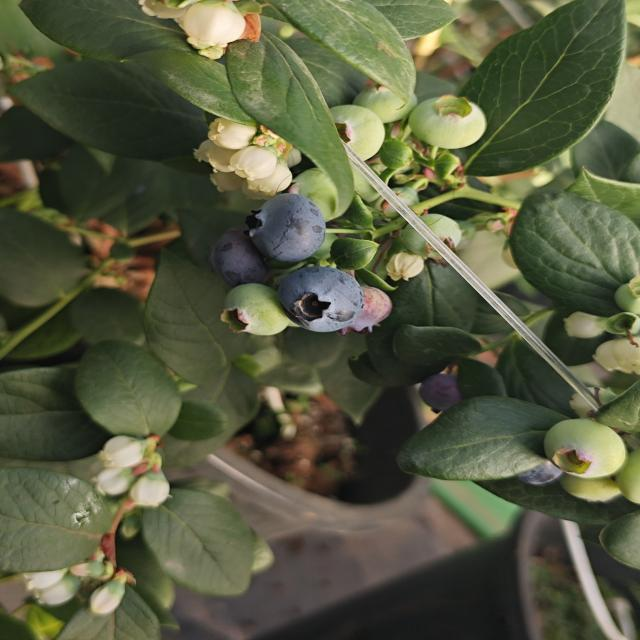ripe: (275, 264, 367, 334), (244, 192, 328, 265), (204, 228, 268, 281), (502, 443, 568, 489)
